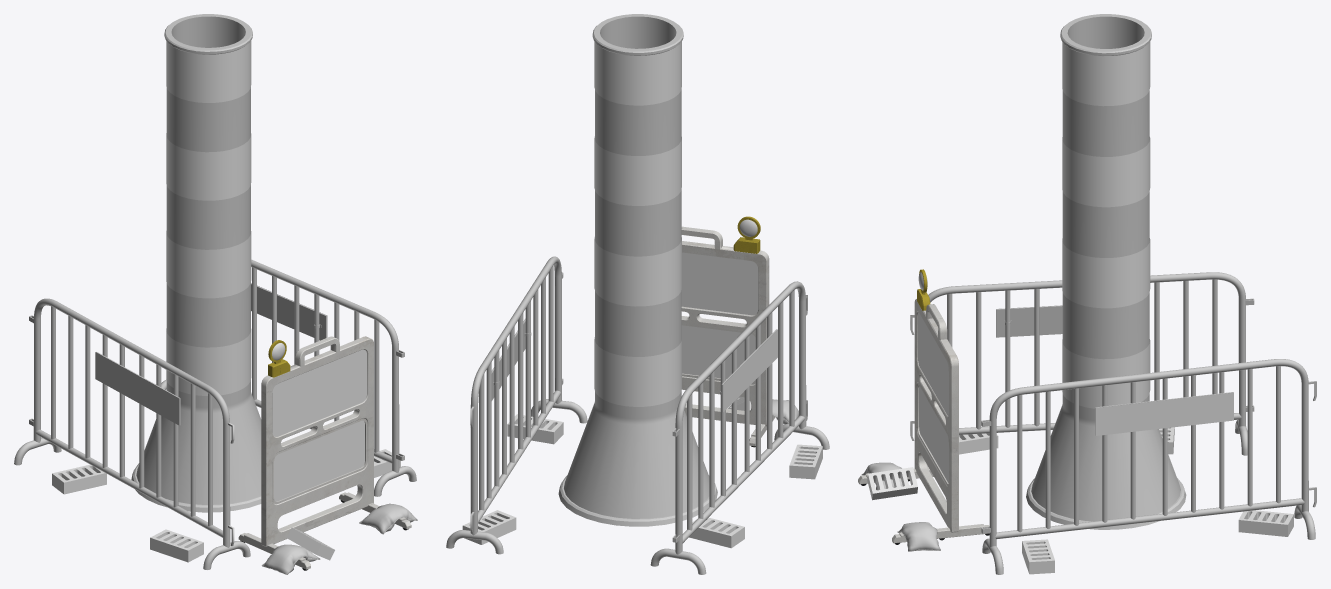
The model's file is KB3D_CTS_BldgSM_D.fbx.
The picture shows the model from 3 angles, left to right: view 1: azimuth 30°, elevation 25°; view 2: azimuth 150°, elevation 25°; view 3: azimuth 270°, elevation 25°; orthographic projection. The views are drawn at different scales.
Parts seen in each view (by area): view 1: KB3D_CTS_BldgSM_D_ManholeChimney, KB3D_CTS_BldgSM_D_BarrierB, KB3D_CTS_BldgSM_D_BarrierA; view 2: KB3D_CTS_BldgSM_D_ManholeChimney, KB3D_CTS_BldgSM_D_BarrierB, KB3D_CTS_BldgSM_D_BarrierA; view 3: KB3D_CTS_BldgSM_D_ManholeChimney, KB3D_CTS_BldgSM_D_BarrierB, KB3D_CTS_BldgSM_D_BarrierA.
Boxes of the visible parts, x1=… form: KB3D_CTS_BldgSM_D_ManholeChimney: x1=131, y1=14, x2=261, y2=512; KB3D_CTS_BldgSM_D_BarrierB: x1=14, y1=259, x2=416, y2=569; KB3D_CTS_BldgSM_D_BarrierA: x1=238, y1=336, x2=417, y2=574; KB3D_CTS_BldgSM_D_ManholeChimney: x1=558, y1=14, x2=717, y2=526; KB3D_CTS_BldgSM_D_BarrierB: x1=446, y1=256, x2=829, y2=574; KB3D_CTS_BldgSM_D_BarrierA: x1=681, y1=216, x2=798, y2=447; KB3D_CTS_BldgSM_D_ManholeChimney: x1=1026, y1=14, x2=1186, y2=529; KB3D_CTS_BldgSM_D_BarrierB: x1=910, y1=272, x2=1316, y2=574; KB3D_CTS_BldgSM_D_BarrierA: x1=858, y1=269, x2=989, y2=551.
Bounding box in the file's own units: 177 × 265 × 237.
